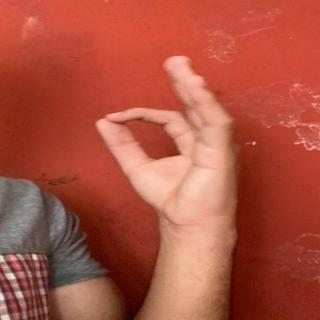Space: (95, 52, 246, 206)
